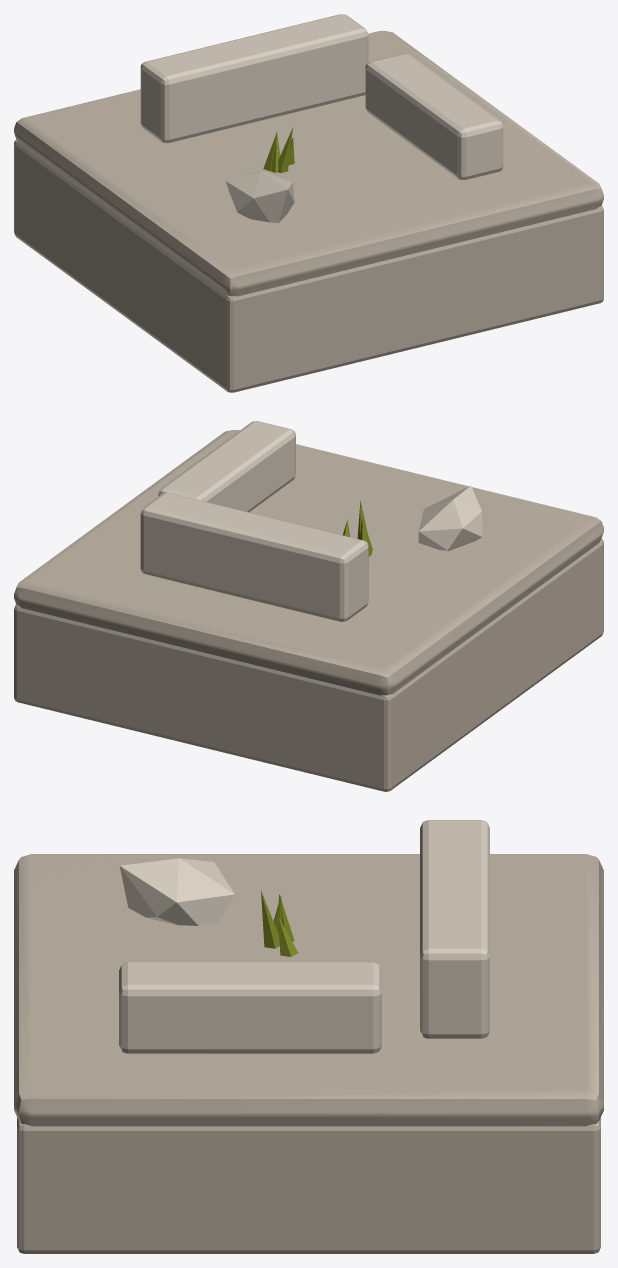
Rendered from tile_stone_ruin.glb.
3 views of the same model, one above another, from view 1: azimuth 30°, elevation 25°; view 2: azimuth 150°, elevation 25°; view 3: azimuth 270°, elevation 25° (orthographic). The views are drawn at different scales.
Parts seen in each view (by area): view 1: sr_cap, sr_body, sr_found1, sr_found2, sr_r0; view 2: sr_cap, sr_body, sr_found1, sr_found2, sr_r0; view 3: sr_cap, sr_body, sr_found2, sr_found1, sr_r0, srt_blade3.
Boxes of the visible parts, x1,y1,x2,y2 form: sr_cap: (14, 30, 603, 296); sr_body: (14, 139, 603, 392); sr_found1: (140, 14, 368, 143); sr_found2: (365, 54, 503, 179); sr_r0: (225, 171, 294, 223); sr_cap: (14, 430, 603, 695); sr_body: (14, 539, 603, 791); sr_found1: (140, 493, 368, 621); sr_found2: (158, 421, 295, 512); sr_r0: (418, 485, 482, 551); sr_cap: (14, 854, 603, 1126); sr_body: (17, 1117, 600, 1253); sr_found2: (119, 962, 381, 1053); sr_found1: (420, 820, 489, 1038); sr_r0: (119, 858, 234, 925); srt_blade3: (261, 891, 279, 948).
Size of the model in its own units: 2.02 by 0.94 by 2.02.
